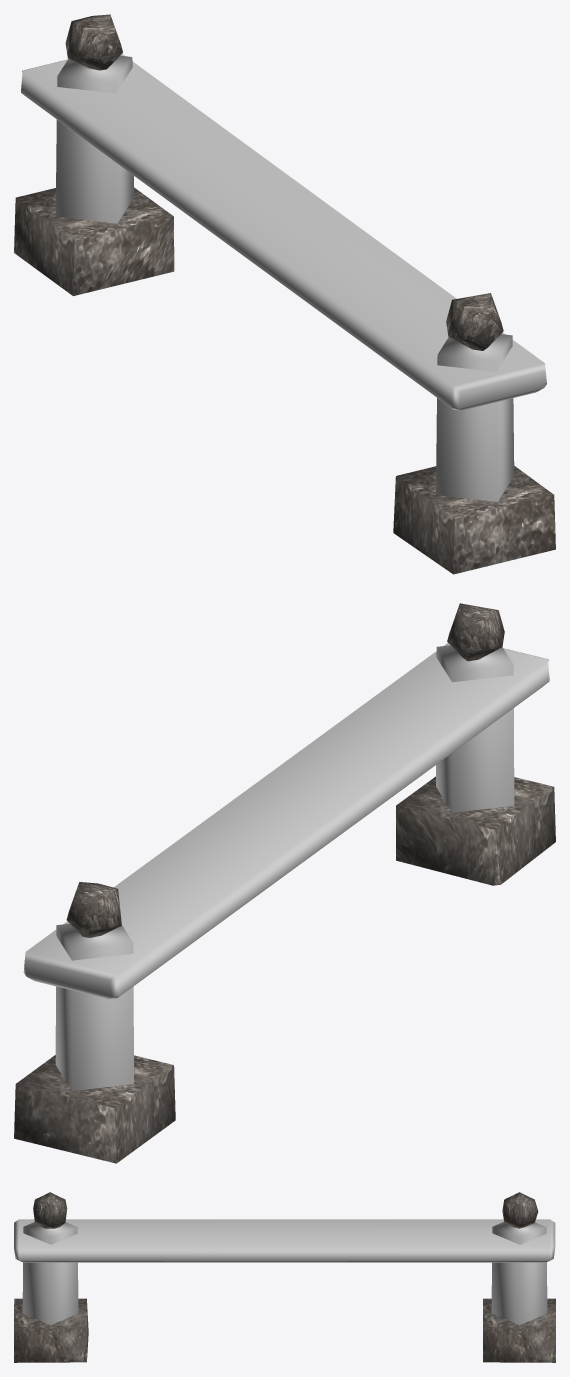
File: StoneFence_1.fbx
3 renders of one model, top to bottom at view 1: azimuth 30°, elevation 25°; view 2: azimuth 150°, elevation 25°; view 3: azimuth 270°, elevation 25°, orthographic. The views are drawn at different scales.
Parts seen in each view (by area): view 1: Mesh; view 2: Mesh; view 3: Mesh.
Part boxes in pixels (box(x1,y1,x2,y2)): Mesh: box(14, 14, 555, 574); Mesh: box(14, 603, 555, 1163); Mesh: box(14, 1192, 555, 1362).
Bounding box in the file's own units: 41.16 × 91.26 × 298.
